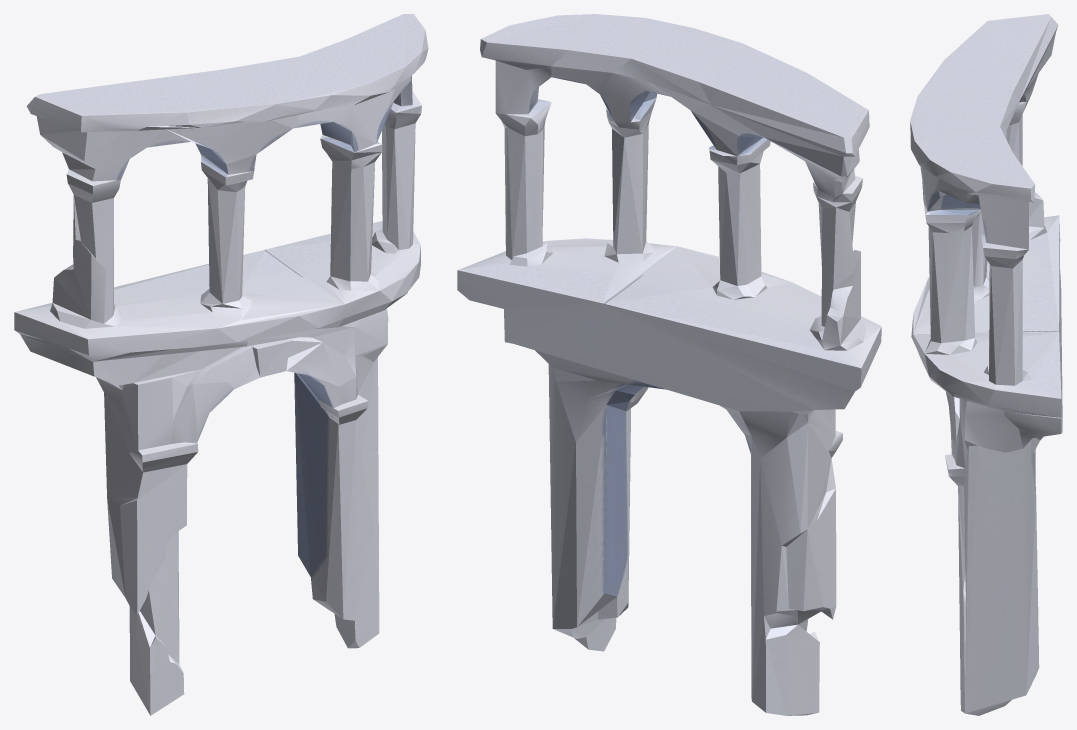
Rendered from ruinas_balcon.fbx.
3 renders of one model, left to right at view 1: azimuth 30°, elevation 25°; view 2: azimuth 150°, elevation 25°; view 3: azimuth 270°, elevation 25°, orthographic. The views are drawn at different scales.
Parts seen in each view (by area): view 1: ruinas_balcon; view 2: ruinas_balcon; view 3: ruinas_balcon.
Boxes of the visible parts, left/top/right/bottom form: ruinas_balcon: left=14, top=14, right=428, bottom=715; ruinas_balcon: left=457, top=14, right=881, bottom=715; ruinas_balcon: left=910, top=14, right=1062, bottom=715.
Size of the model in its own units: 5.07 by 7.5 by 1.77.
Materials: 1 (1 with a texture image).
